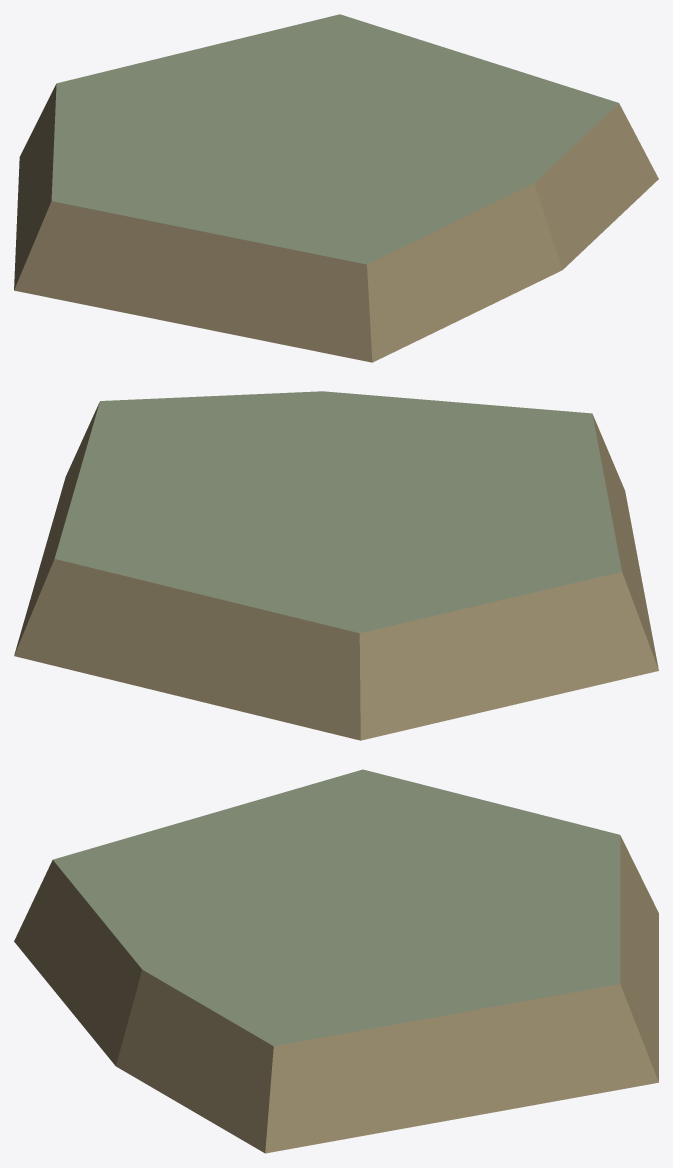
Rendered from rock_smallFlatA.glb.
3 views of the same model, one above another, from view 1: azimuth 30°, elevation 25°; view 2: azimuth 150°, elevation 25°; view 3: azimuth 270°, elevation 25° (orthographic). The views are drawn at different scales.
Visible parts, largest first — view 1: rock_smallFlatA; view 2: rock_smallFlatA; view 3: rock_smallFlatA.
Part boxes in pixels (box(x1,y1,x2,y2)): rock_smallFlatA: box(14, 14, 658, 362); rock_smallFlatA: box(14, 391, 658, 740); rock_smallFlatA: box(14, 769, 658, 1153).
Size of the model in its own units: 0.4958 by 0.0649 by 0.4296.
